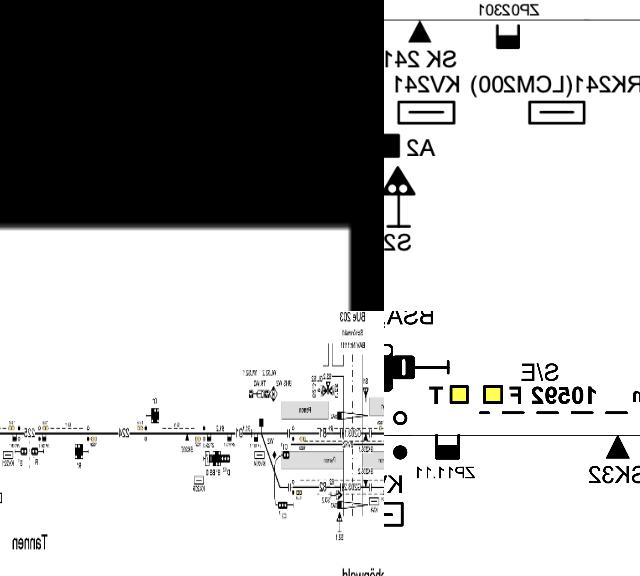mainsignal: (278, 502, 287, 511)
radzaehler: (0, 0, 384, 311), (490, 16, 526, 55), (12, 432, 18, 445), (253, 431, 259, 443), (226, 431, 232, 443), (206, 431, 212, 443), (41, 431, 47, 443)
trackjoint: (286, 482, 292, 494), (339, 483, 344, 493), (339, 429, 344, 438), (286, 428, 290, 439), (368, 430, 372, 437), (370, 483, 372, 491)
tracknumber: (116, 428, 132, 442), (23, 426, 36, 440), (318, 481, 328, 493), (318, 428, 327, 439), (235, 429, 244, 438)
weiche: (258, 416, 265, 435)
